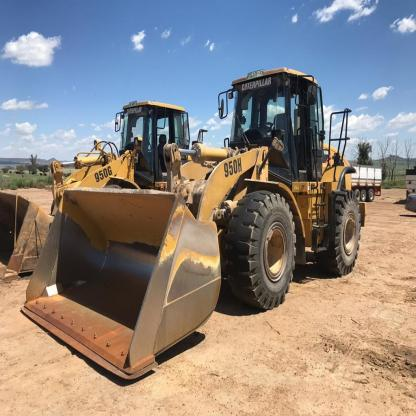bull_dozer/loader/grader: (25, 60, 364, 376)
